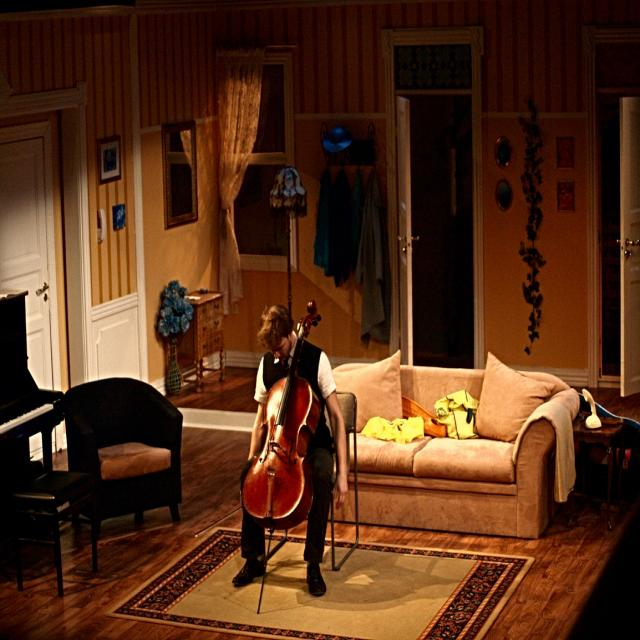cello: (243, 301, 323, 525)
